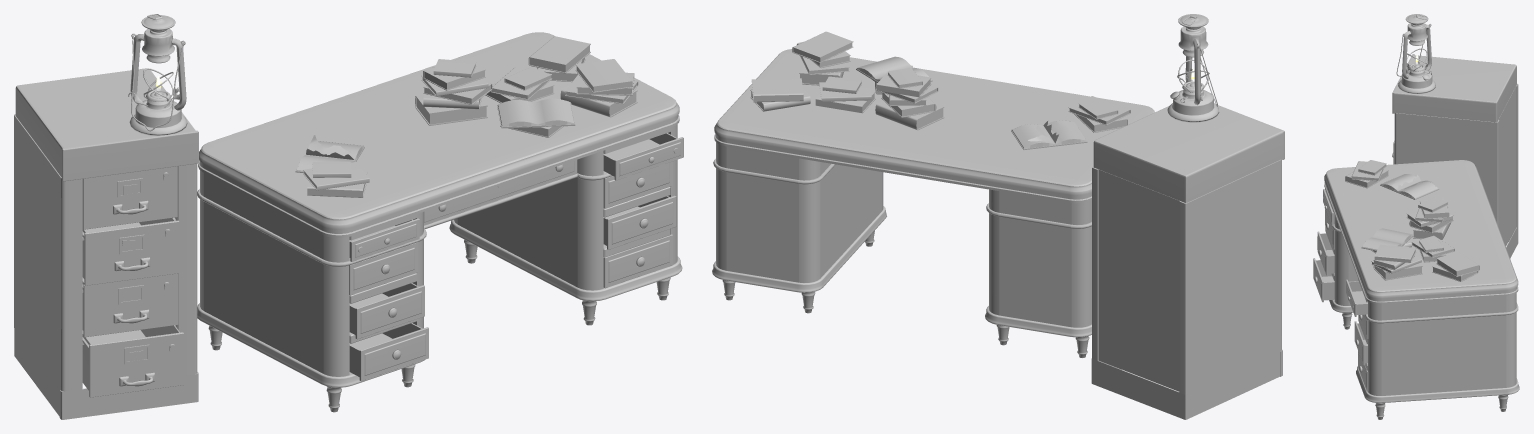
3 renders of one model, left to right at view 1: azimuth 30°, elevation 25°; view 2: azimuth 150°, elevation 25°; view 3: azimuth 270°, elevation 25°, orthographic. The views are drawn at different scales.
Parts seen in each view (by area): view 1: desk_wooden1, cabinet_medium, cabinet_medium_drawer_4, cabinet_medium_drawer_2, cabinet_medium_drawer_3, cabinet_medium_drawer_1, hurricaneLamp_baseShape, bookstack4, bookstack2, desk_wooden1_drawer6, desk_wooden1_drawer5, desk_wooden1_drawer8 (+11 smaller); view 2: desk_wooden1, cabinet_medium, hurricaneLamp_baseShape, bookstack4, bookstack2, bookstack1, book_destroyed, bookstack5, book2, bookstack3; view 3: desk_wooden1, cabinet_medium, hurricaneLamp_baseShape, bookstack4, bookstack2, book_destroyed, bookstack5, bookstack3, bookstack1, book2, desk_wooden1_drawer6, desk_wooden1_drawer2 (+5 smaller).
Boxes of the visible parts, x1=… form: desk_wooden1: x1=197, y1=32, x2=682, y2=412; cabinet_medium: x1=14, y1=68, x2=198, y2=419; cabinet_medium_drawer_4: x1=82, y1=325, x2=183, y2=397; cabinet_medium_drawer_2: x1=82, y1=218, x2=179, y2=285; cabinet_medium_drawer_3: x1=82, y1=273, x2=178, y2=337; cabinet_medium_drawer_1: x1=82, y1=166, x2=177, y2=229; hurricaneLamp_baseShape: x1=128, y1=14, x2=187, y2=135; bookstack4: x1=415, y1=57, x2=492, y2=125; bookstack2: x1=560, y1=59, x2=638, y2=117; desk_wooden1_drawer6: x1=349, y1=323, x2=428, y2=381; desk_wooden1_drawer5: x1=349, y1=283, x2=424, y2=339; desk_wooden1_drawer8: x1=603, y1=195, x2=676, y2=249; desk_wooden1: x1=712, y1=49, x2=1154, y2=357; cabinet_medium: x1=1091, y1=105, x2=1284, y2=419; hurricaneLamp_baseShape: x1=1167, y1=14, x2=1219, y2=122; bookstack4: x1=875, y1=68, x2=944, y2=130; bookstack2: x1=792, y1=31, x2=853, y2=85; bookstack1: x1=815, y1=76, x2=875, y2=113; book_destroyed: x1=1011, y1=120, x2=1087, y2=149; bookstack5: x1=1068, y1=96, x2=1130, y2=132; book2: x1=751, y1=78, x2=803, y2=102; bookstack3: x1=856, y1=56, x2=932, y2=94; desk_wooden1: x1=1324, y1=160, x2=1519, y2=419; cabinet_medium: x1=1392, y1=54, x2=1518, y2=258; hurricaneLamp_baseShape: x1=1396, y1=14, x2=1435, y2=93; bookstack4: x1=1406, y1=197, x2=1453, y2=239; bookstack2: x1=1371, y1=244, x2=1422, y2=280; book_destroyed: x1=1380, y1=174, x2=1439, y2=199; bookstack5: x1=1345, y1=160, x2=1388, y2=188; bookstack3: x1=1361, y1=228, x2=1413, y2=253; bookstack1: x1=1412, y1=235, x2=1454, y2=262; book2: x1=1436, y1=252, x2=1479, y2=276; desk_wooden1_drawer6: x1=1313, y1=258, x2=1334, y2=302; desk_wooden1_drawer2: x1=1346, y1=279, x2=1367, y2=316.
Size of the model in its own units: 2.24 by 1.37 by 1.03.
